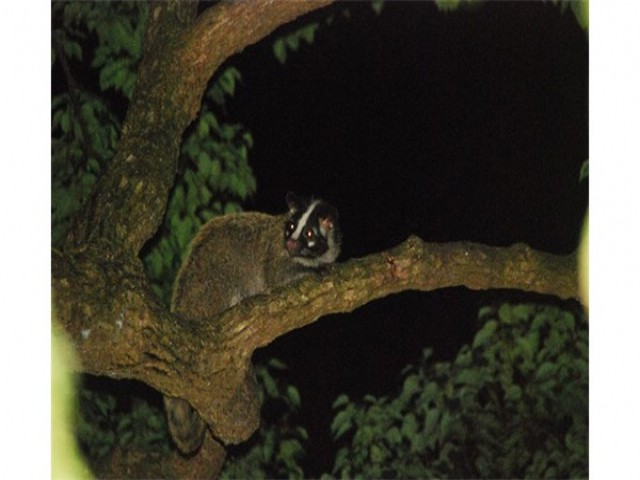civet: (169, 189, 350, 334)
